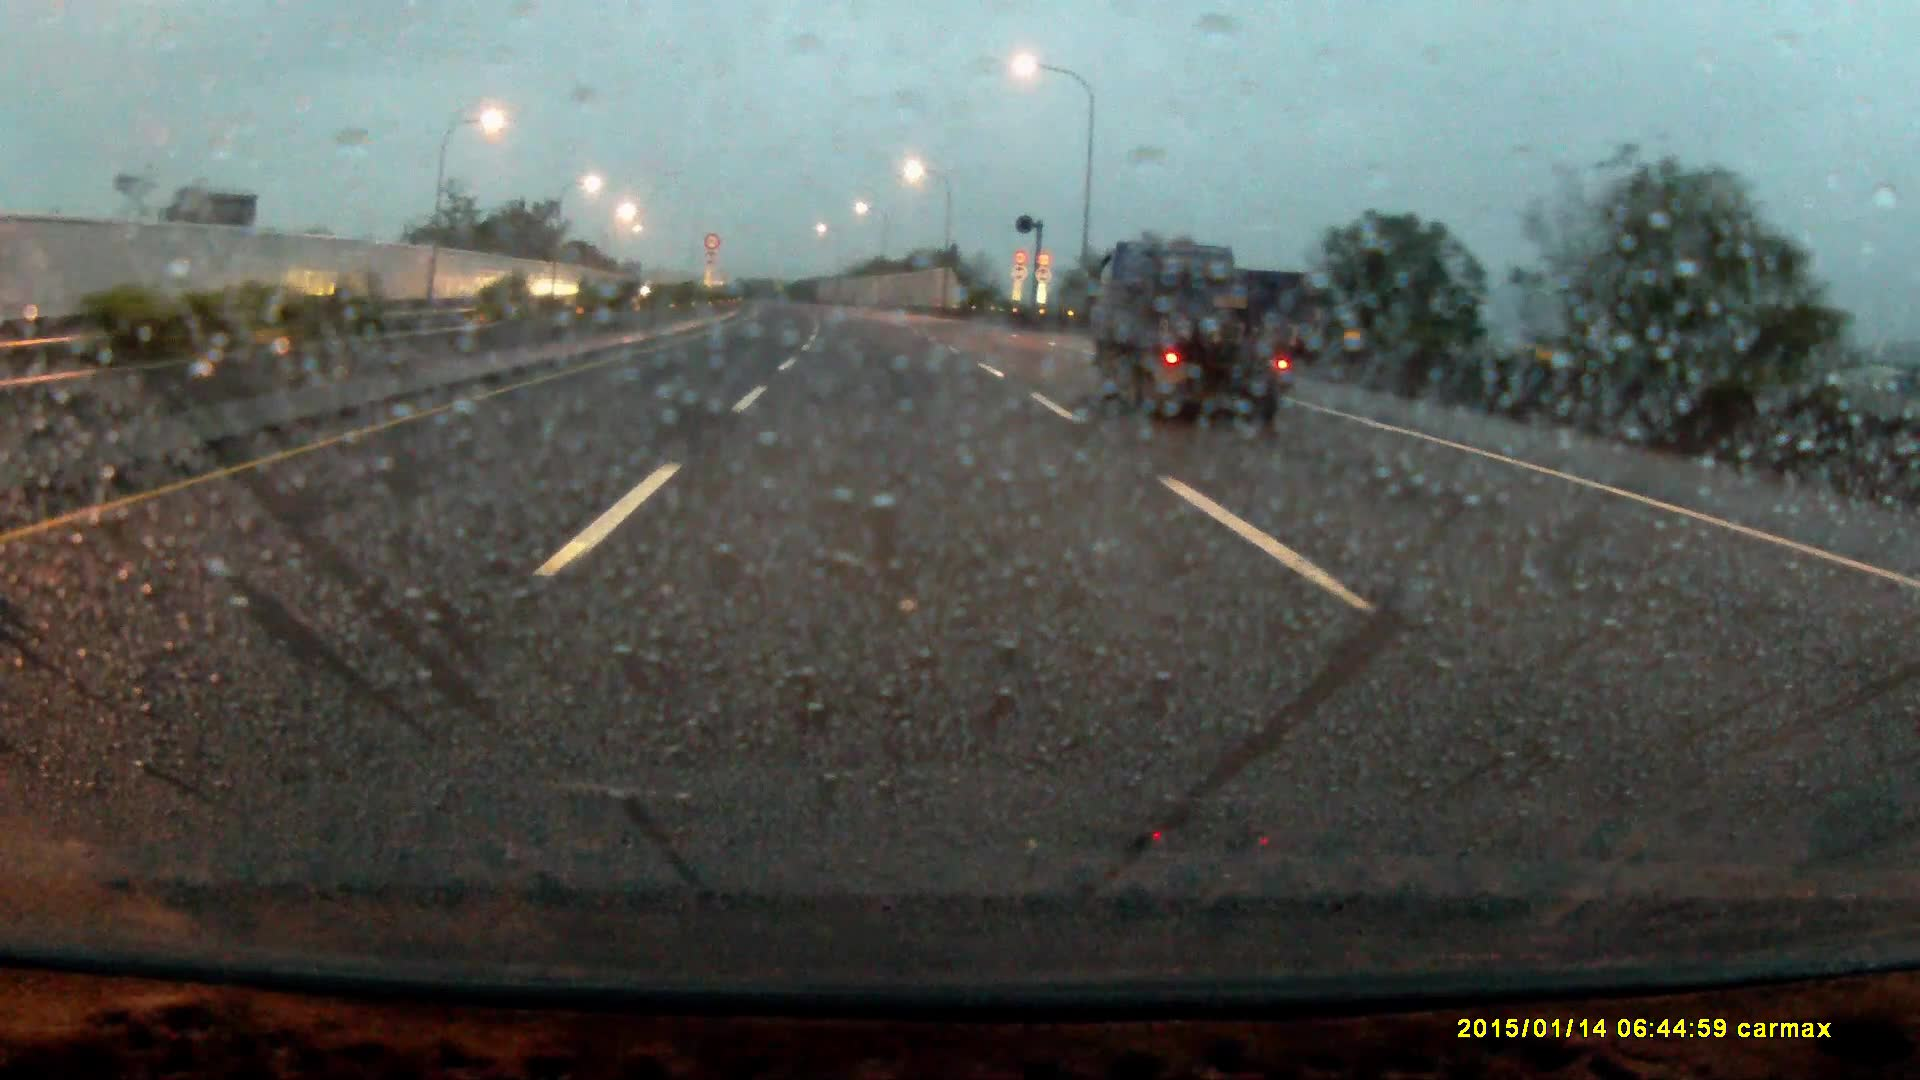vehicle: (1091, 243, 1300, 418)
